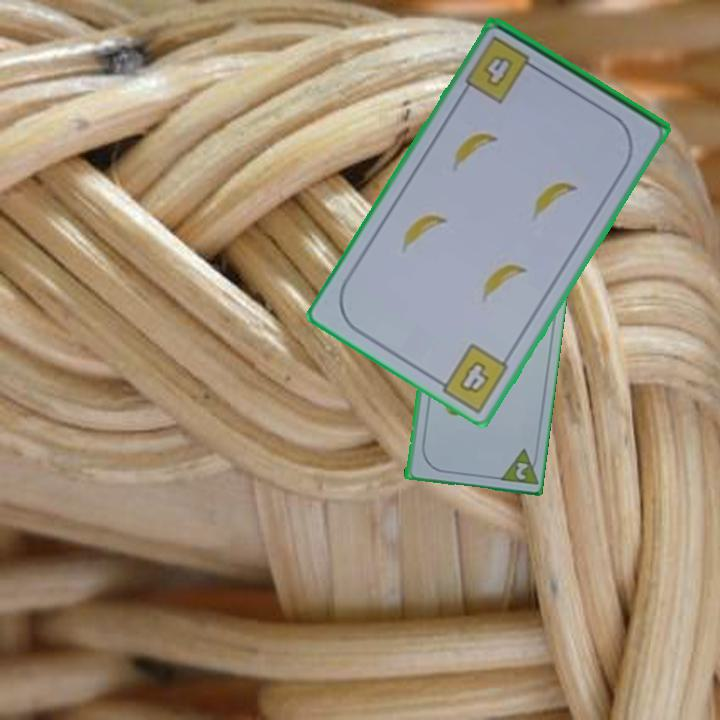2p: (512, 458, 530, 482)
4b: (461, 32, 543, 106), (455, 357, 493, 398)
